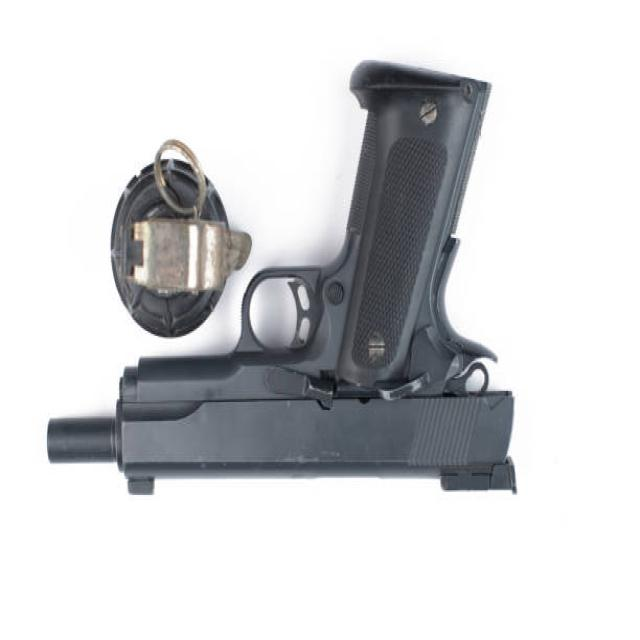grenade: (107, 135, 255, 346)
